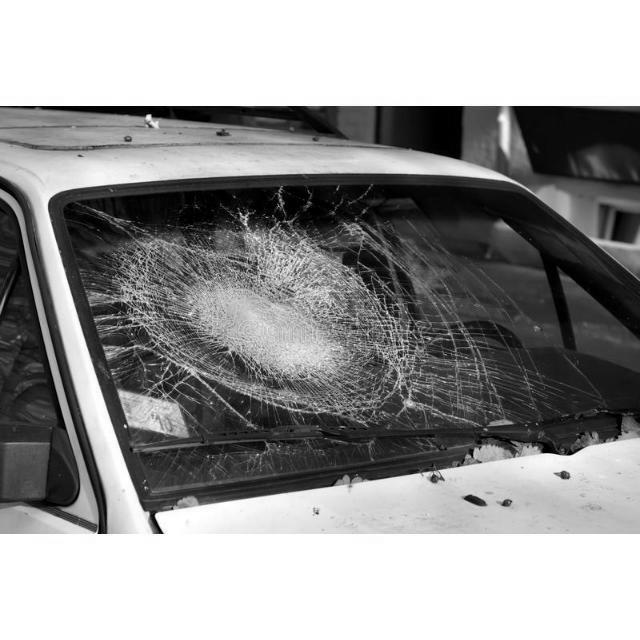Front-windscreen-damage: (67, 186, 582, 474)
